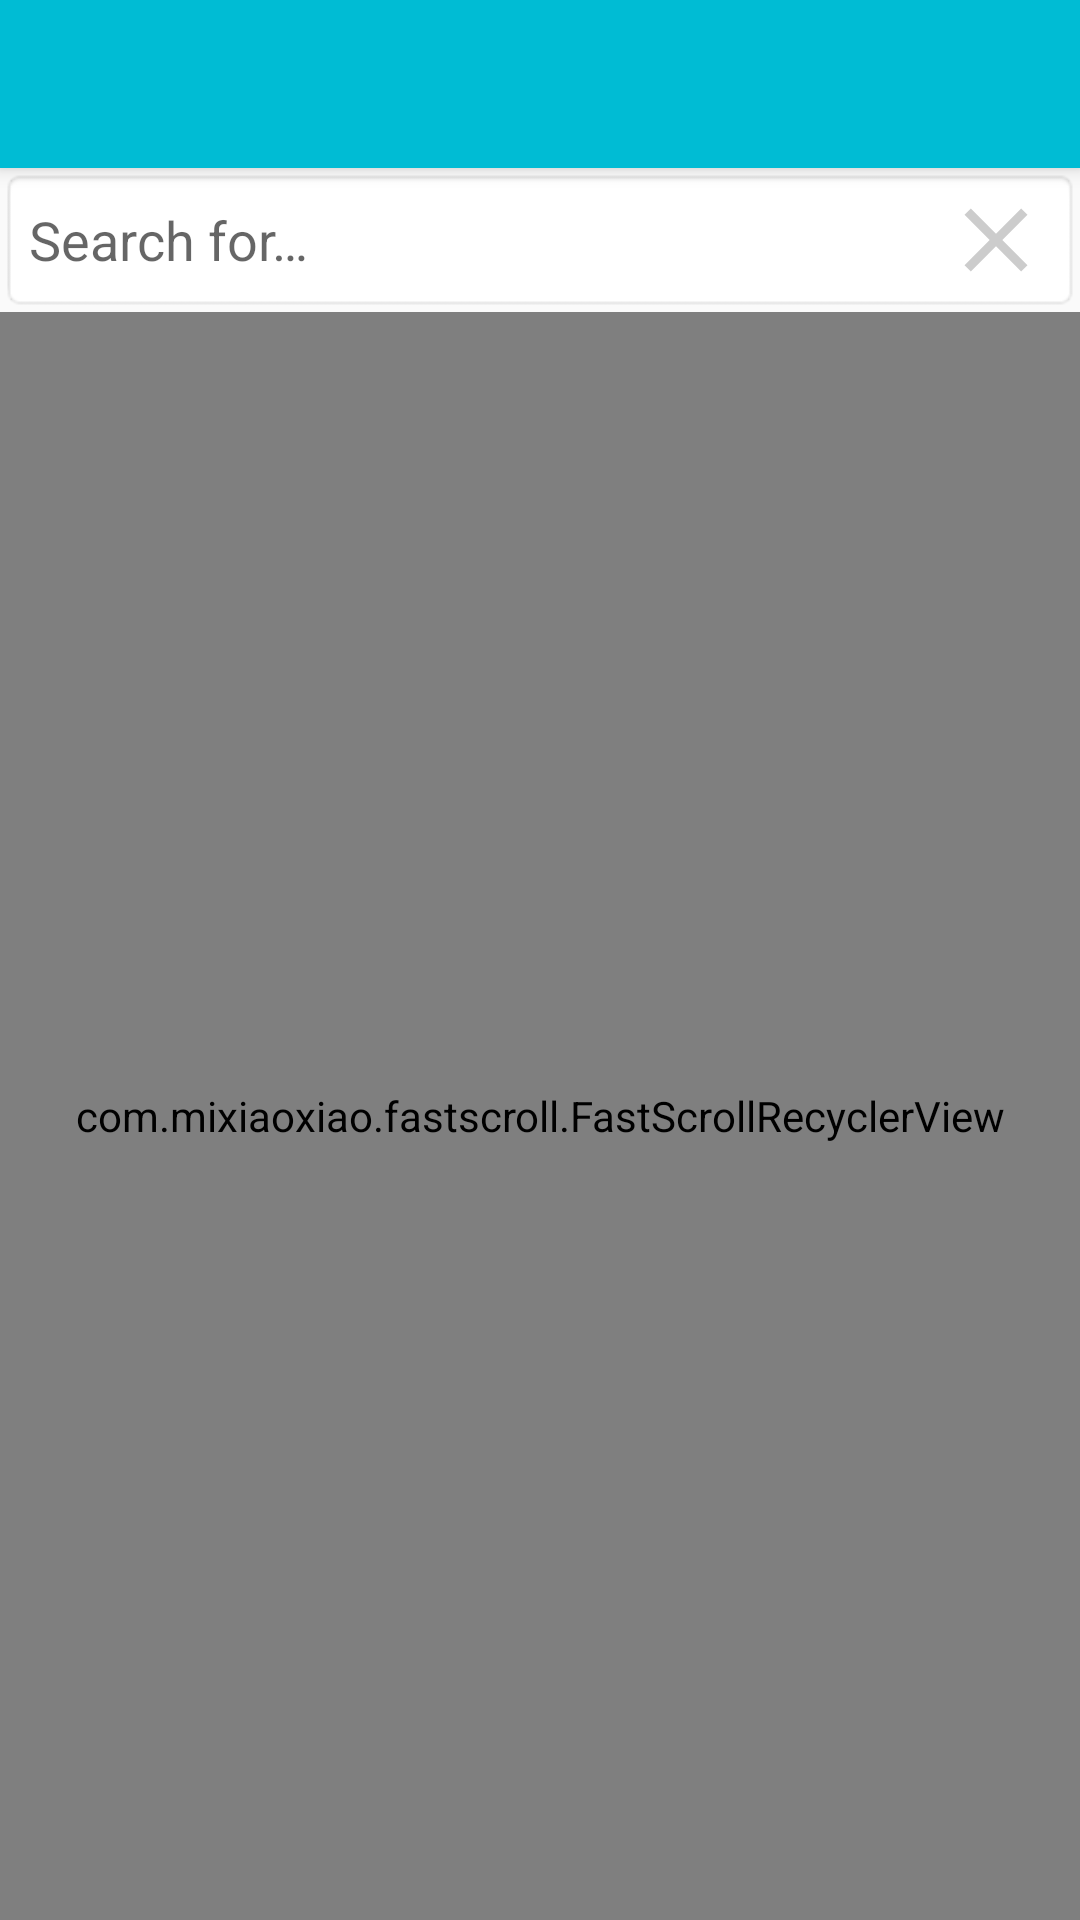

Icon click points for this 1080px x 1920px phone screenshot, format (x,y):
clear: (996,240)
